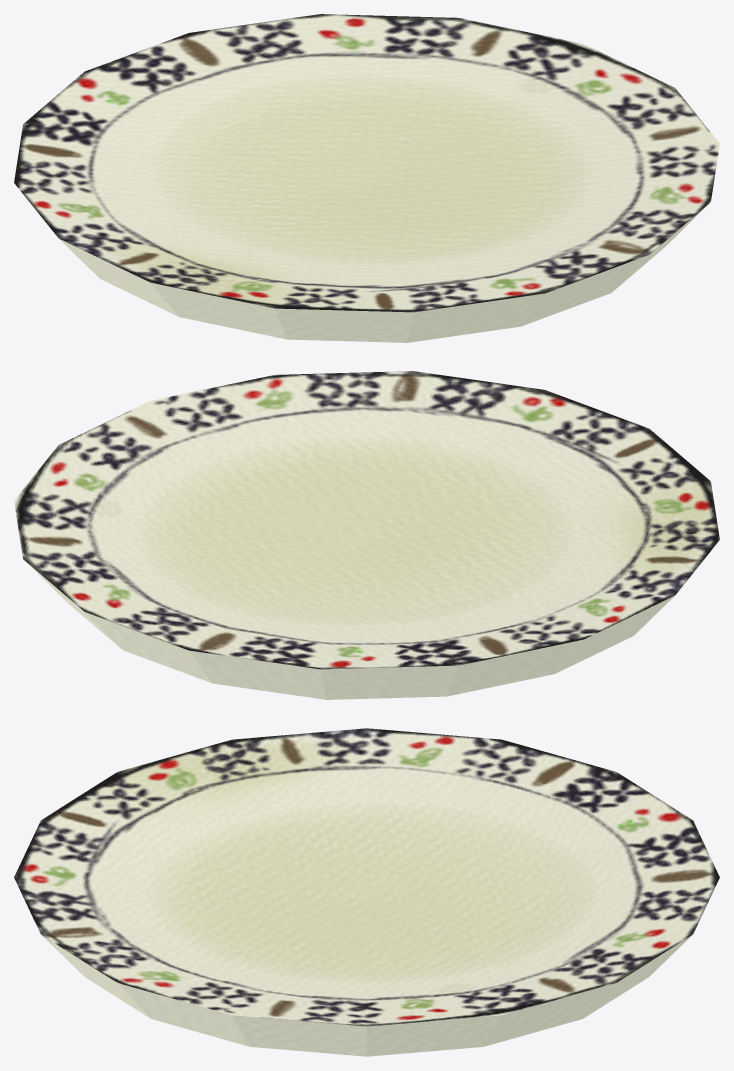
File: detail_cutlery.glb
3 views of the same model, one above another, from view 1: azimuth 30°, elevation 25°; view 2: azimuth 150°, elevation 25°; view 3: azimuth 270°, elevation 25° (orthographic).
Visible parts, largest first — view 1: Cutlery; view 2: Cutlery; view 3: Cutlery.
Boxes of the visible parts, <box> form: Cutlery: <box>14,14,719,342</box>; Cutlery: <box>14,371,719,699</box>; Cutlery: <box>14,728,719,1056</box>.
Bounding box in the file's own units: 0.0293 × 0.0023 × 0.0293.
1 material, 1 textured.
